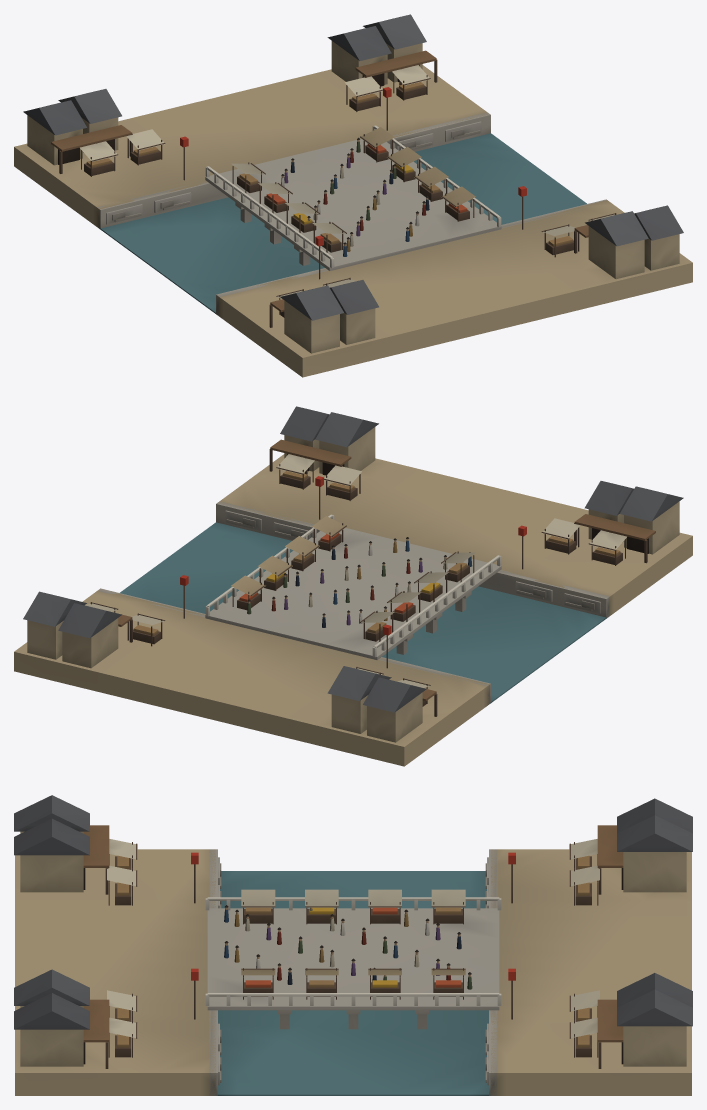
Rendered from zhouqiao.glb.
The picture shows the model from 3 angles, top to bottom: view 1: azimuth 30°, elevation 25°; view 2: azimuth 150°, elevation 25°; view 3: azimuth 270°, elevation 25°; orthographic projection. The views are drawn at different scales.
Visible parts, largest first — view 1: p0_banks, p1_shops, p2_market; view 2: p0_banks, p1_shops, p2_market; view 3: p0_banks, p1_shops, p2_market.
Boxes of the visible parts, bbox=[...] form: p0_banks: bbox=[14, 65, 692, 377]; p1_shops: bbox=[23, 14, 683, 353]; p2_market: bbox=[80, 65, 616, 317]; p0_banks: bbox=[14, 454, 692, 766]; p1_shops: bbox=[23, 406, 683, 742]; p2_market: bbox=[85, 454, 626, 706]; p0_banks: bbox=[15, 849, 691, 1095]; p1_shops: bbox=[14, 795, 692, 1068]; p2_market: bbox=[107, 839, 599, 1057].
Bounding box in the file's own units: 50 × 8.63 × 64.2.
